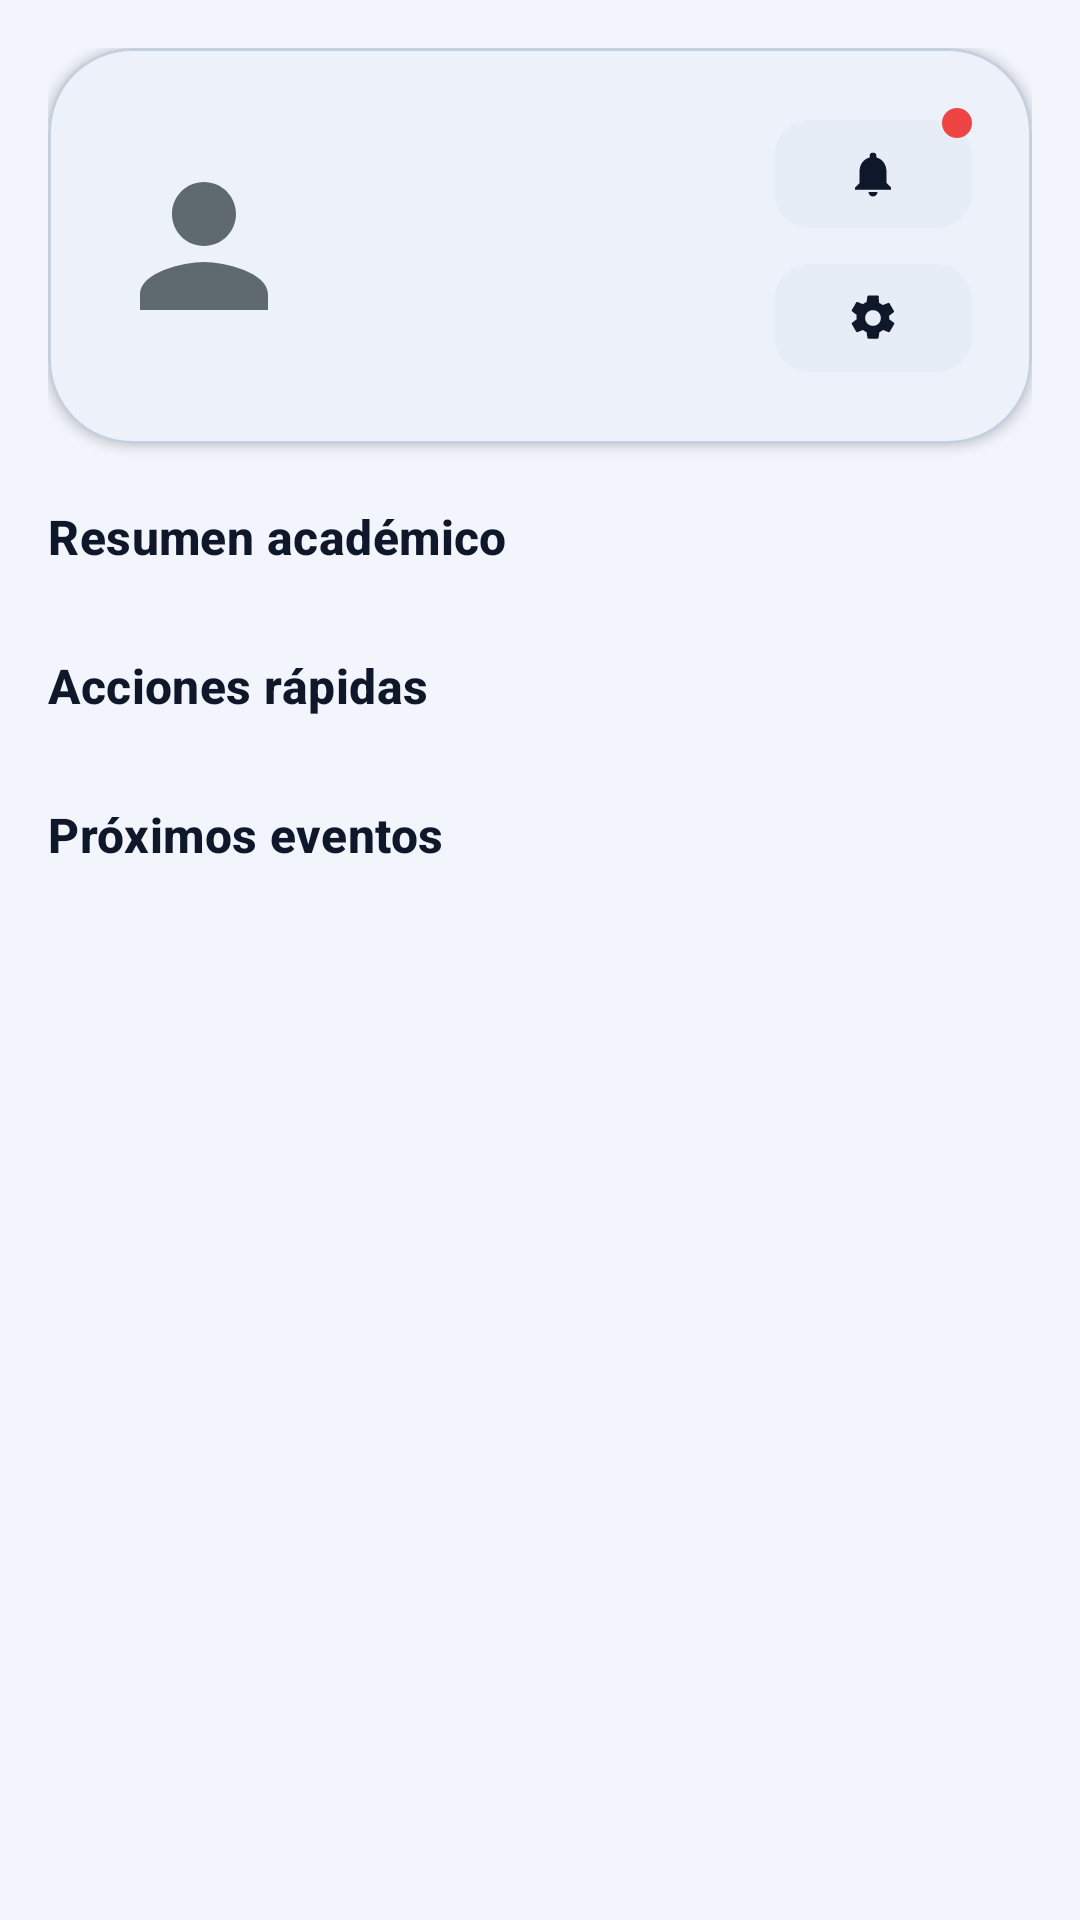

Screen size 1080×1920. Icon name, then its box in pixels as (x1, y1, x2, y2):
Abrir configuración: (851, 295, 895, 339)
